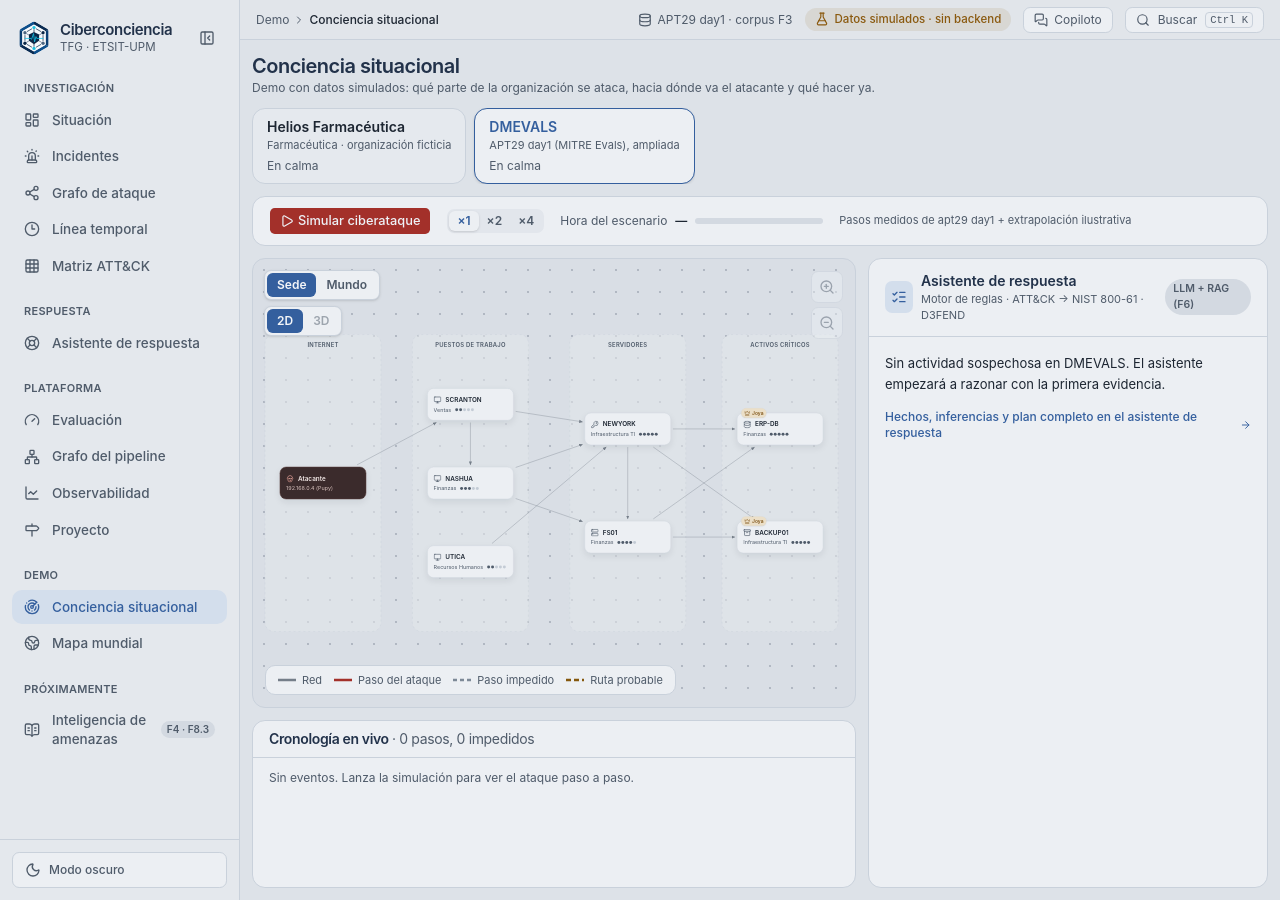
Test case: Conciencia situacional › sin respuesta, el ataque termina alcanzando sus objetivos
This screenshot has width=1280, height=900.
What coordinates should you click on to do the following:
click the radio button labelled "×4"
I would click on:
 (526, 220)
Its box is [510,210,542,230].
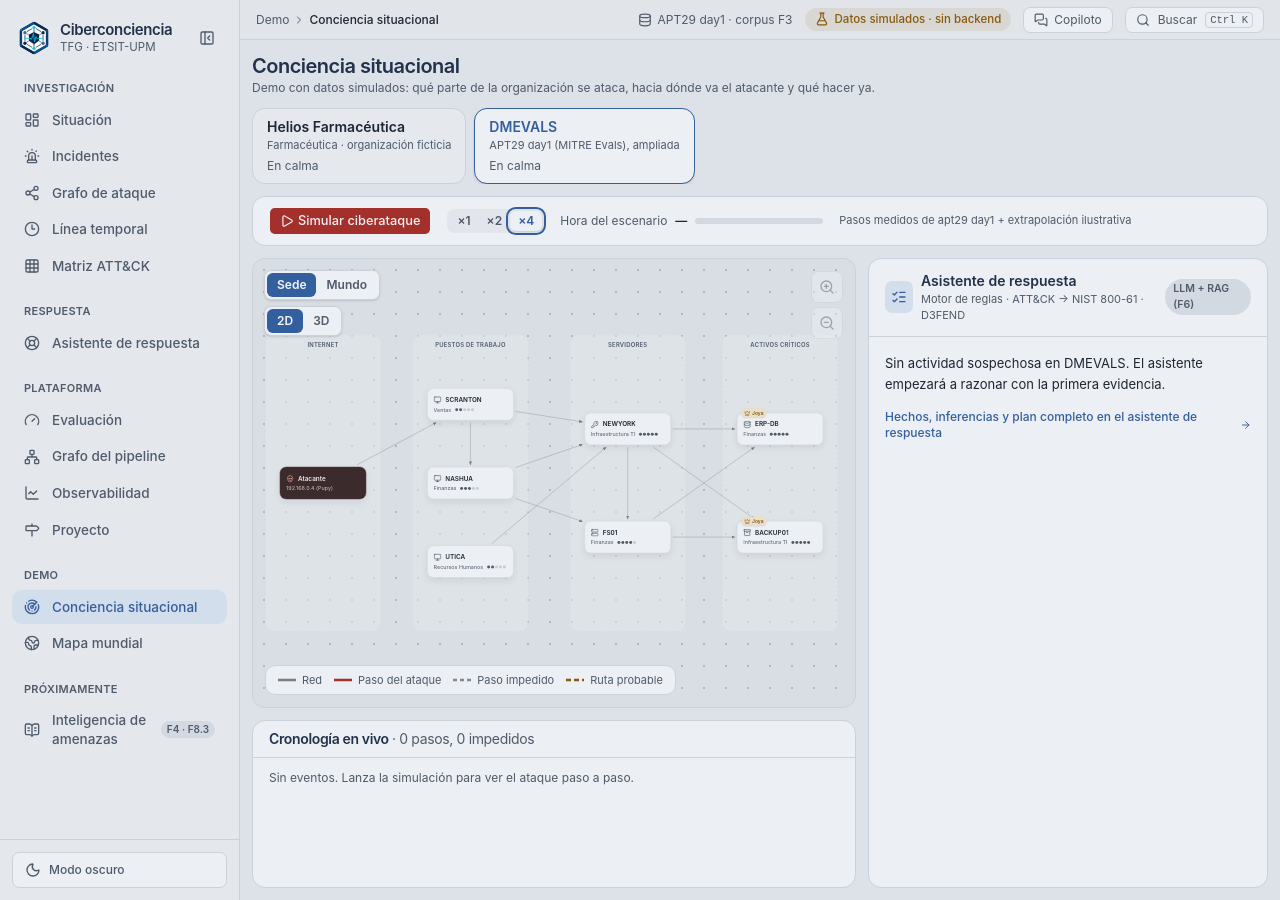
What coordinates should you click on to do the following:
click the button "Simular ciberataque"
I would click on:
 (350, 220)
Its box is [269,206,431,234].
Wait 35000 ms
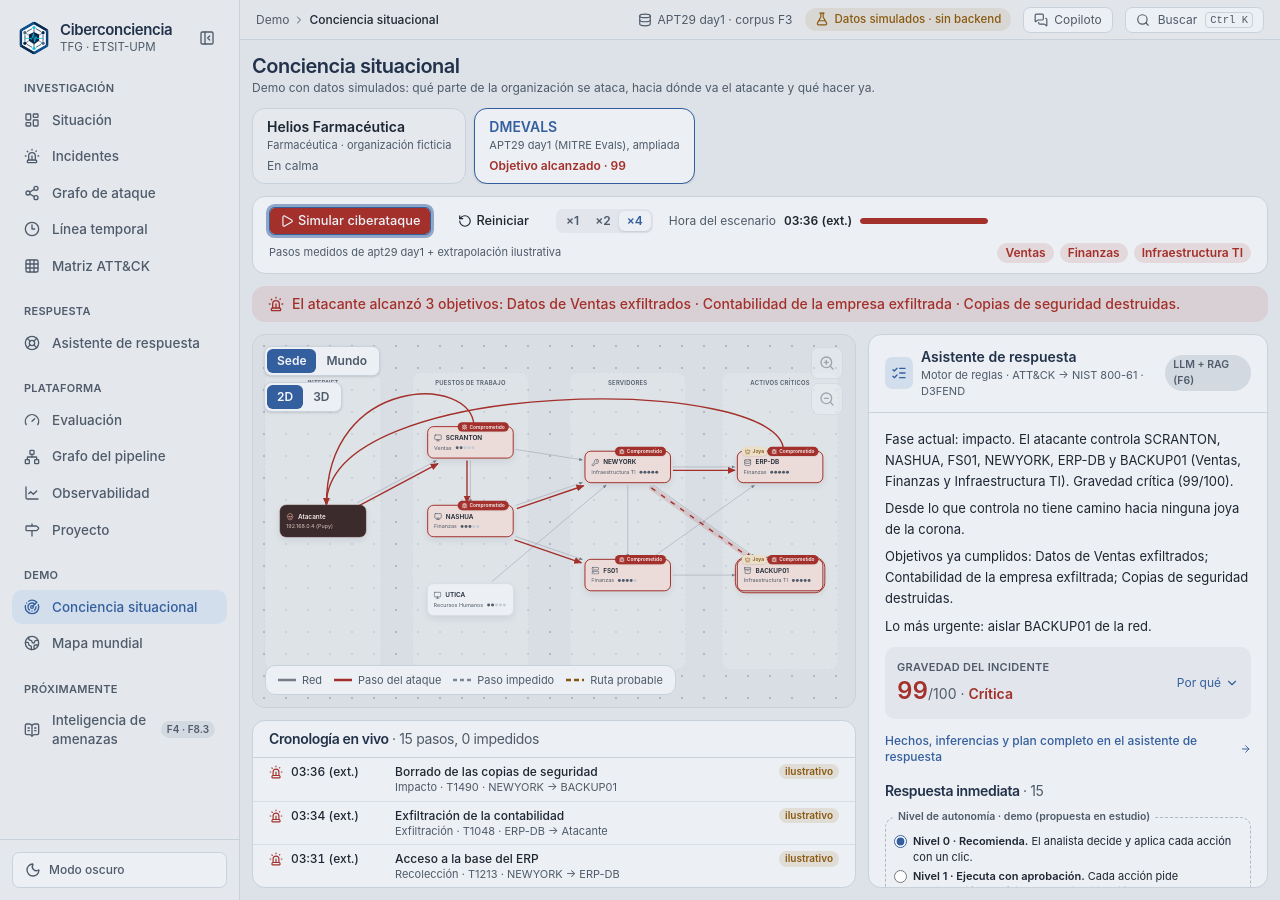
Expected: the text "El atacante alcanzó 3 objetivos" is shown, [292,294,1180,312]
